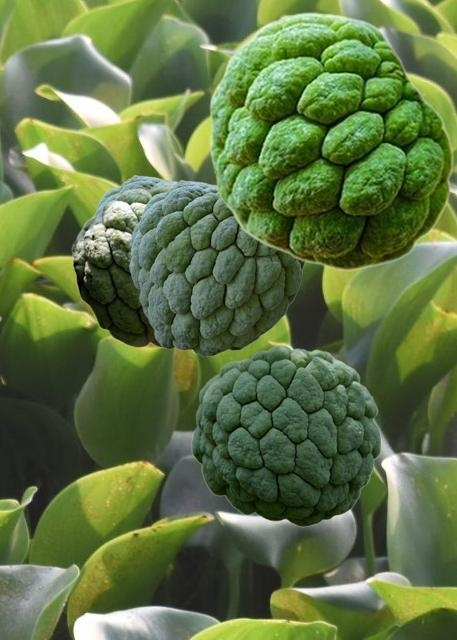atis: (209, 11, 453, 270), (191, 345, 380, 526), (129, 180, 305, 355), (71, 182, 176, 347), (92, 175, 177, 216)
